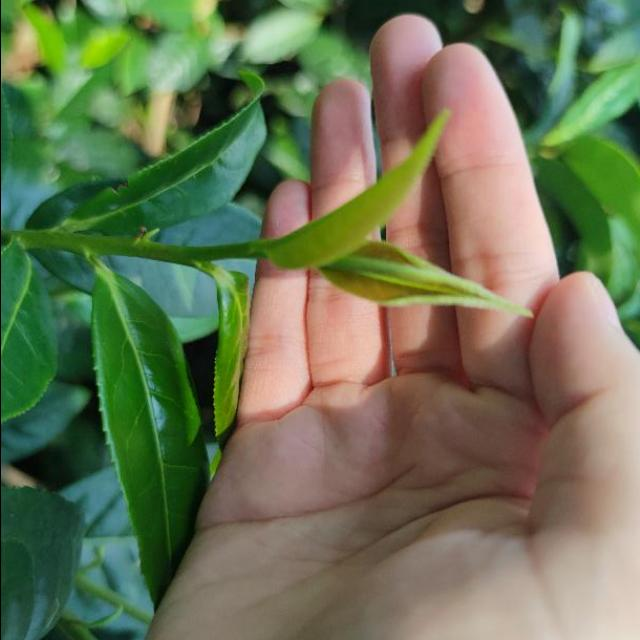Stem: (130, 242, 194, 265)
